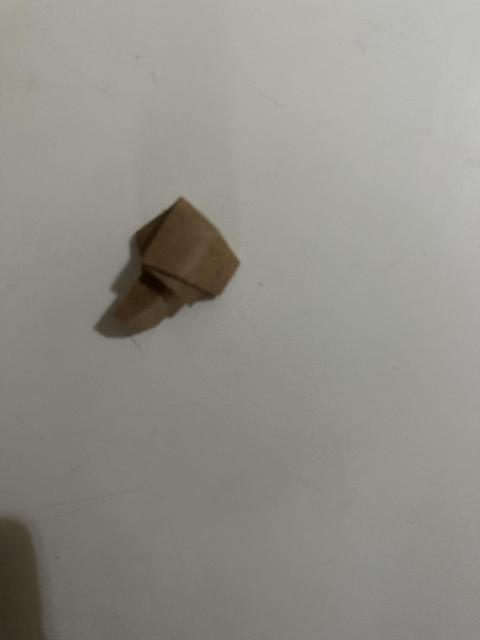Kagit: (112, 196, 241, 336)
